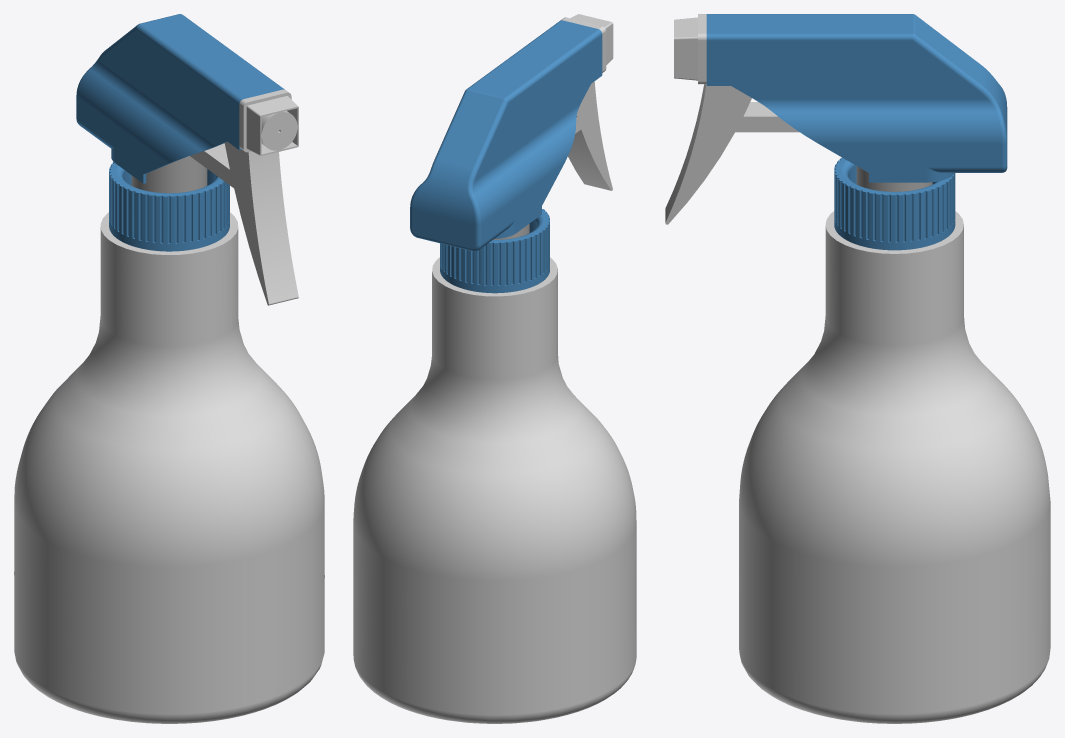
Rendered from Sprayer v4.fbx.
3 views of the same model, side by side, from view 1: azimuth 30°, elevation 25°; view 2: azimuth 150°, elevation 25°; view 3: azimuth 270°, elevation 25° (orthographic). The views are drawn at different scales.
Visible parts, largest first — view 1: Body1, Body4, Body3, Body8, Body6, Body7; view 2: Body1, Body4, Body3, Body8, Body6; view 3: Body1, Body4, Body3, Body8, Body6, Body7.
Part boxes in pixels (left/top/right/bottom): Body1: left=14, top=212, right=324, bottom=723; Body4: left=76, top=14, right=284, bottom=183; Body3: left=109, top=162, right=229, bottom=251; Body8: left=190, top=142, right=298, bottom=305; Body6: left=239, top=89, right=298, bottom=155; Body7: left=131, top=156, right=207, bottom=193; Body1: left=353, top=257, right=636, bottom=723; Body4: left=410, top=20, right=602, bottom=251; Body3: left=440, top=209, right=549, bottom=293; Body8: left=568, top=81, right=612, bottom=190; Body6: left=561, top=14, right=613, bottom=72; Body1: left=739, top=211, right=1050, bottom=723; Body4: left=706, top=14, right=1007, bottom=182; Body3: left=834, top=157, right=955, bottom=250; Body8: left=665, top=84, right=799, bottom=224; Body6: left=674, top=14, right=706, bottom=84; Body7: left=856, top=166, right=932, bottom=191.
Bounding box in the file's own units: 90 × 204 × 111.
